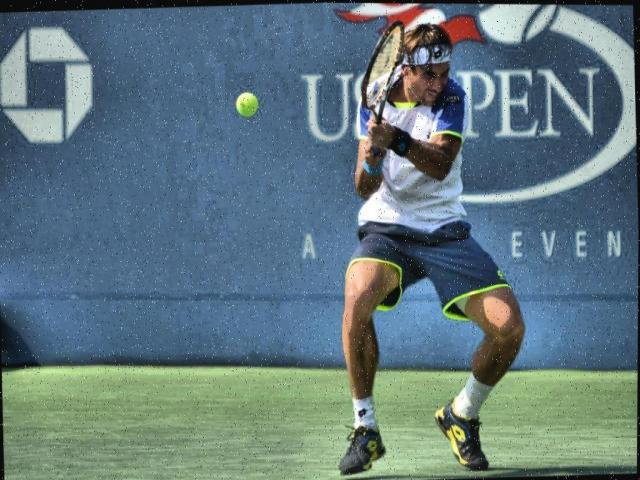tennis-ball: (236, 92, 257, 118)
